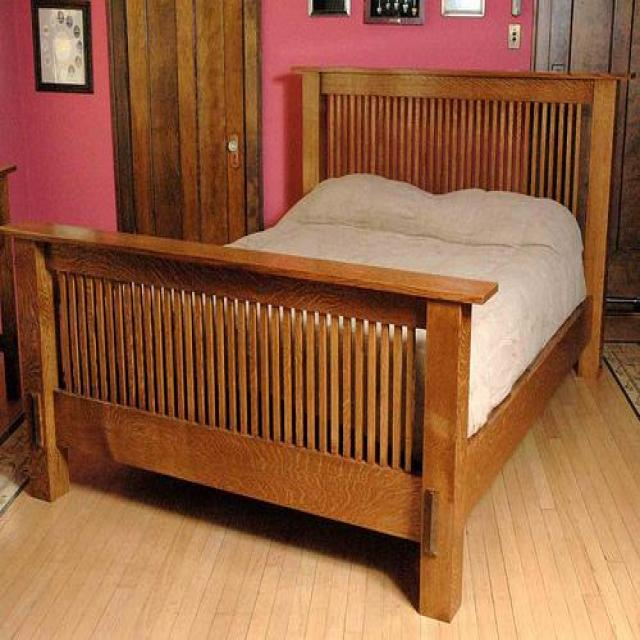bed: (5, 64, 628, 619)
